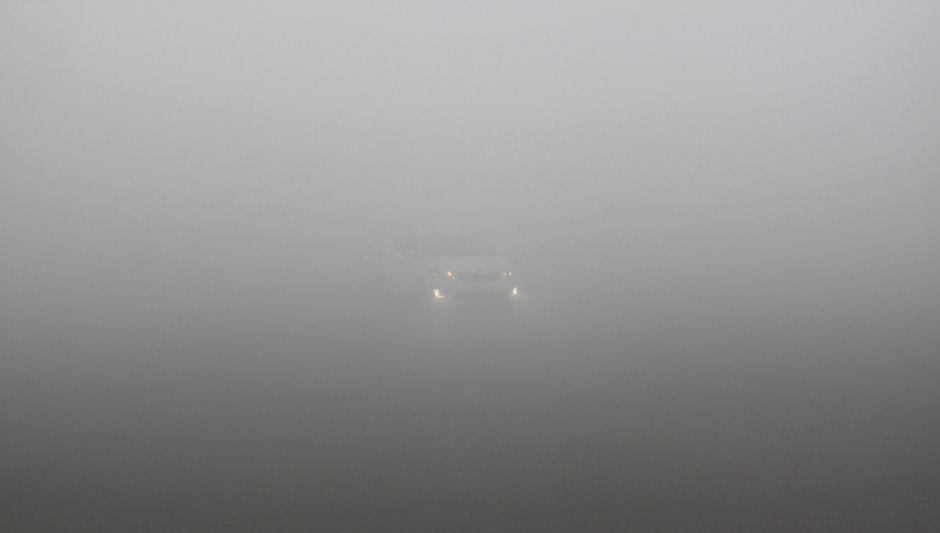car: (378, 222, 518, 316)
